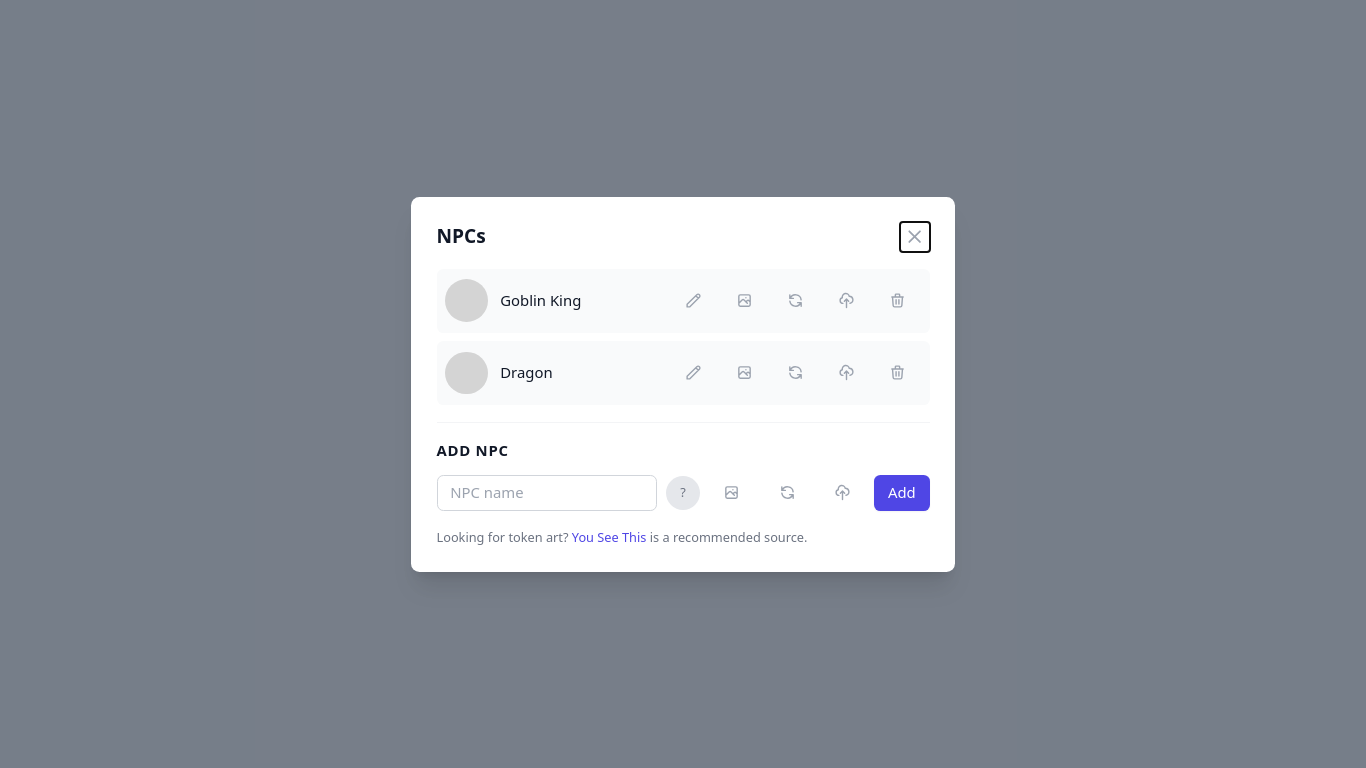
Scenario: NpcManagementModal › rejects an empty new NPC name
This screenshot has width=1366, height=768.
Click the button "Add": x=902, y=493 [874,475,930,511]
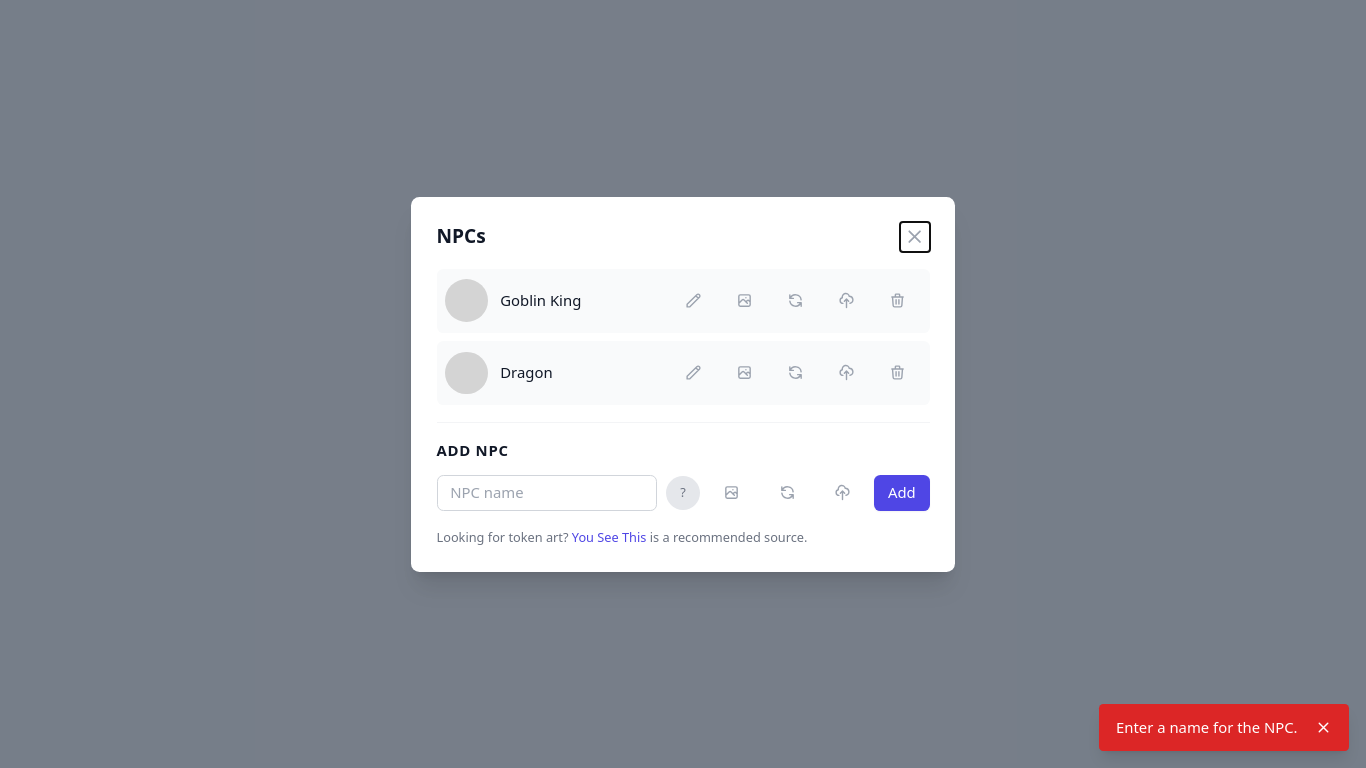
Expected: the text "Enter a name for the NPC." is shown, [1116,717,1298,738]
